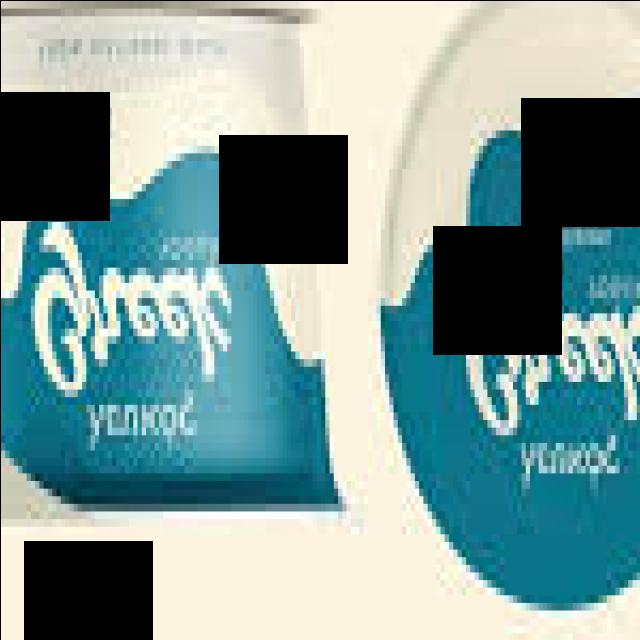yoghurt: (0, 20, 351, 518), (374, 0, 640, 609)
